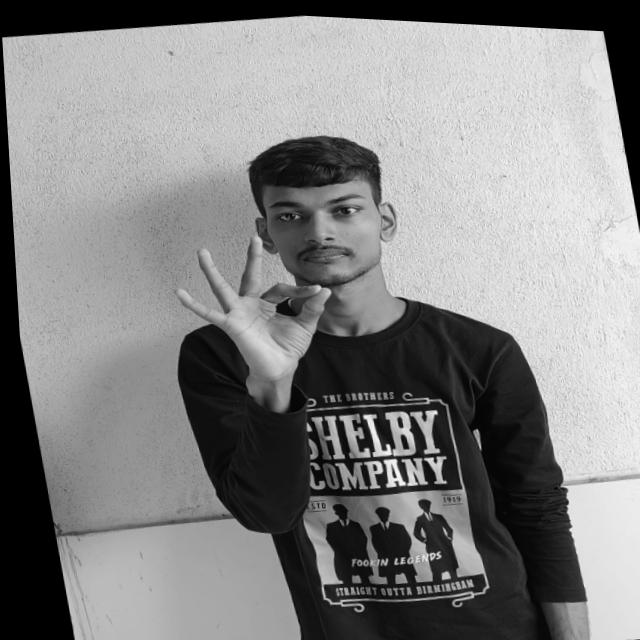Superb: (155, 218, 347, 380)
